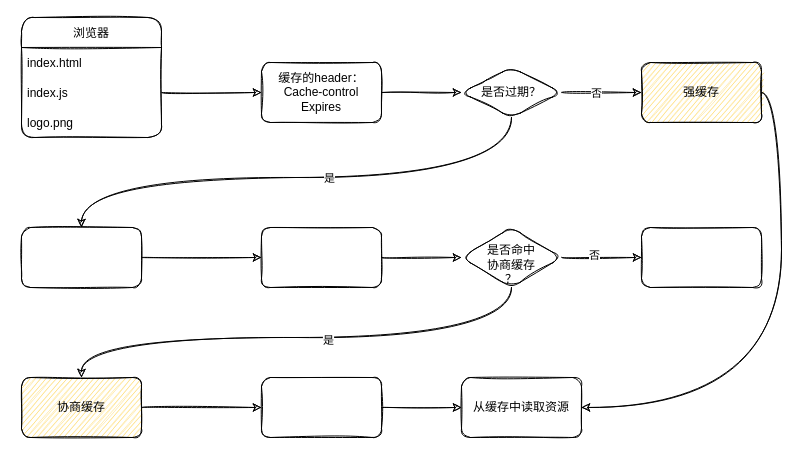
This 799x455 diagram has some shape labels left out. The centre of each missing label's shape, as x and y in pixels:
"Last-modified & If-Modifined-Since 和 Etag & If-Node-Match" belongs at point (321, 257).
"从服务器加载资源" belongs at point (701, 257).
"向服务器发送一条请求" belongs at point (81, 257).
"服务器返回 304 Not Modified" belongs at point (321, 407).
